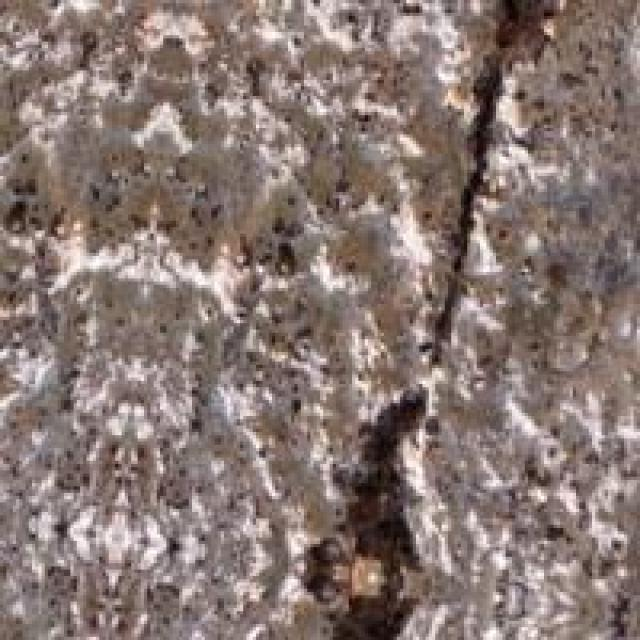crack: (288, 9, 550, 636)
